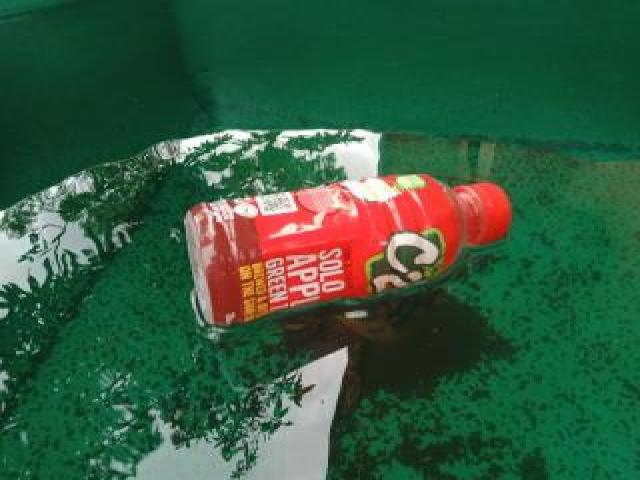Bottle: (174, 168, 521, 337)
